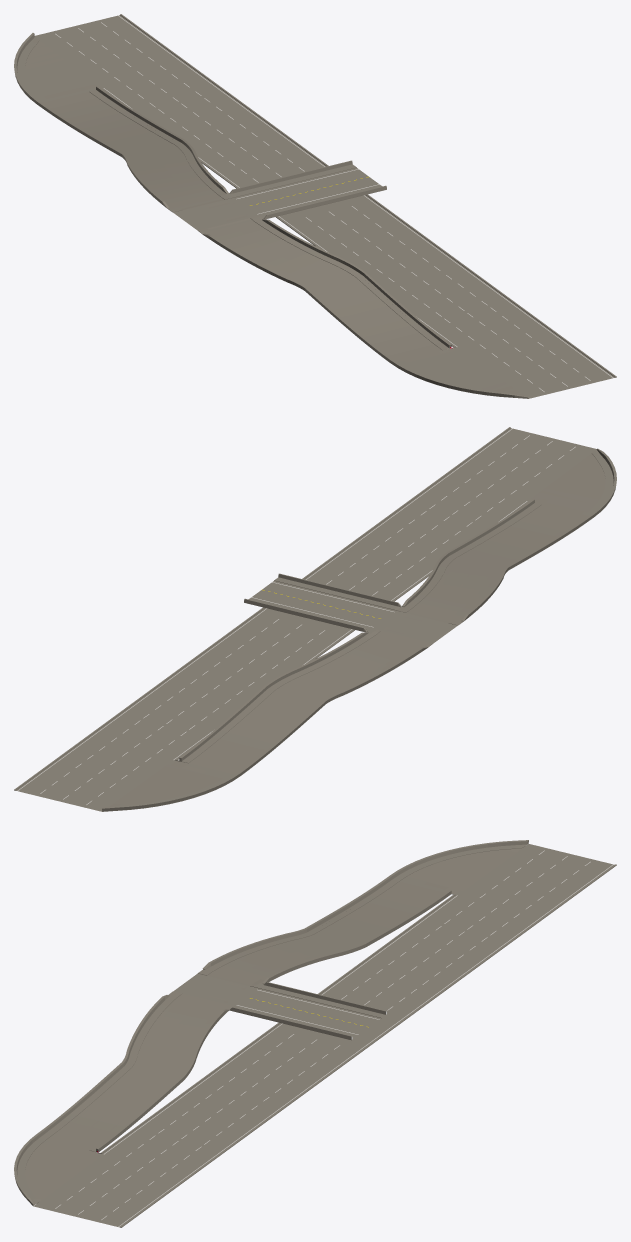
Rendered from highway_Intersection.fbx.
The picture shows the model from 3 angles, top to bottom: view 1: azimuth 30°, elevation 25°; view 2: azimuth 150°, elevation 25°; view 3: azimuth 330°, elevation 25°; orthographic projection.
Parts seen in each view (by area): view 1: Intersection; view 2: Intersection; view 3: Intersection.
Boxes of the visible parts, left/top/right/bottom form: Intersection: left=14, top=14, right=616, bottom=398; Intersection: left=14, top=427, right=616, bottom=811; Intersection: left=14, top=840, right=616, bottom=1227.
Bounding box in the file's own units: 60.17 × 7.1 × 280.
